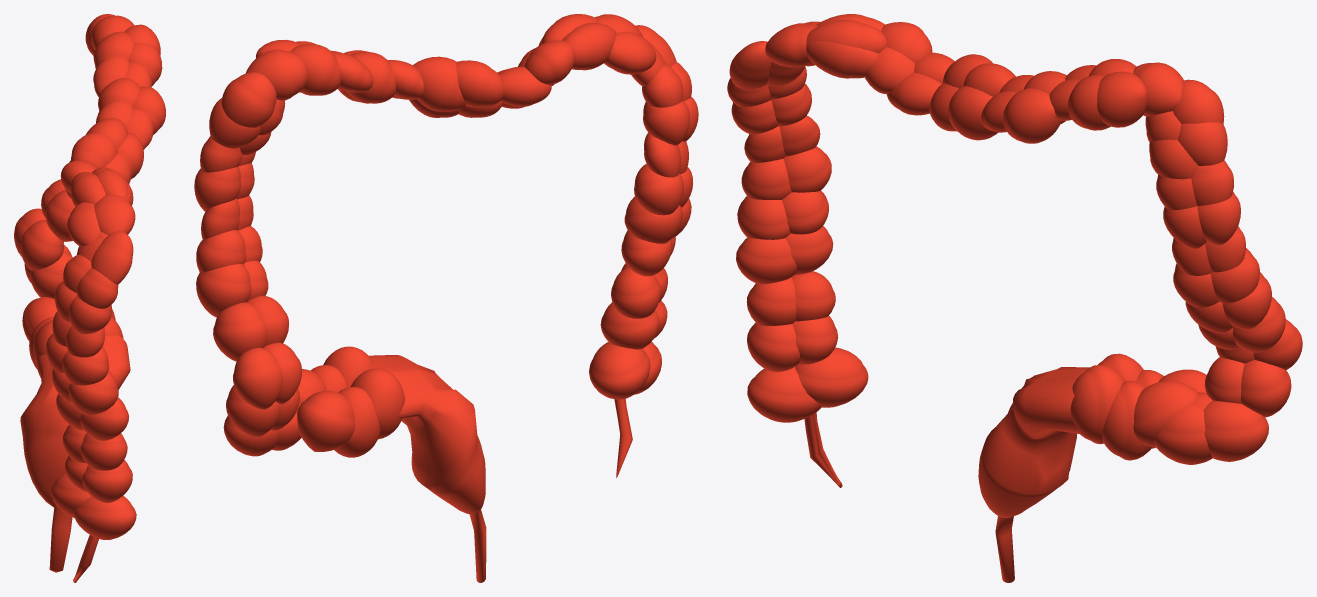
The model's file is intestine.glb.
The picture shows the model from 3 angles, left to right: view 1: azimuth 30°, elevation 25°; view 2: azimuth 150°, elevation 25°; view 3: azimuth 270°, elevation 25°; orthographic projection. The views are drawn at different scales.
Visible parts, largest first — view 1: Object_3, Object_5, Object_6, Object_2, Object_4, Object_7; view 2: Object_3, Object_2, Object_6, Object_4, Object_5, Object_7; view 3: Object_3, Object_2, Object_4, Object_6, Object_5, Object_7.
Boxes of the visible parts, x1,y1,x2,y2 form: Object_3: (20, 15, 160, 572); Object_5: (46, 78, 165, 385); Object_6: (52, 31, 135, 440); Object_2: (41, 14, 132, 518); Object_4: (14, 42, 162, 334); Object_7: (64, 118, 143, 582); Object_3: (246, 39, 661, 582); Object_2: (196, 72, 667, 399); Object_6: (290, 14, 691, 276); Object_4: (194, 41, 698, 456); Object_5: (338, 25, 692, 215); Object_7: (409, 56, 632, 478); Object_3: (747, 62, 1244, 582); Object_2: (746, 79, 1285, 407); Object_4: (731, 75, 1302, 464); Object_6: (736, 14, 1136, 284); Object_5: (727, 41, 1066, 199); Object_7: (804, 52, 1015, 487).
Size of the model in its own units: 0.2891 by 0.5209 by 0.4621.
